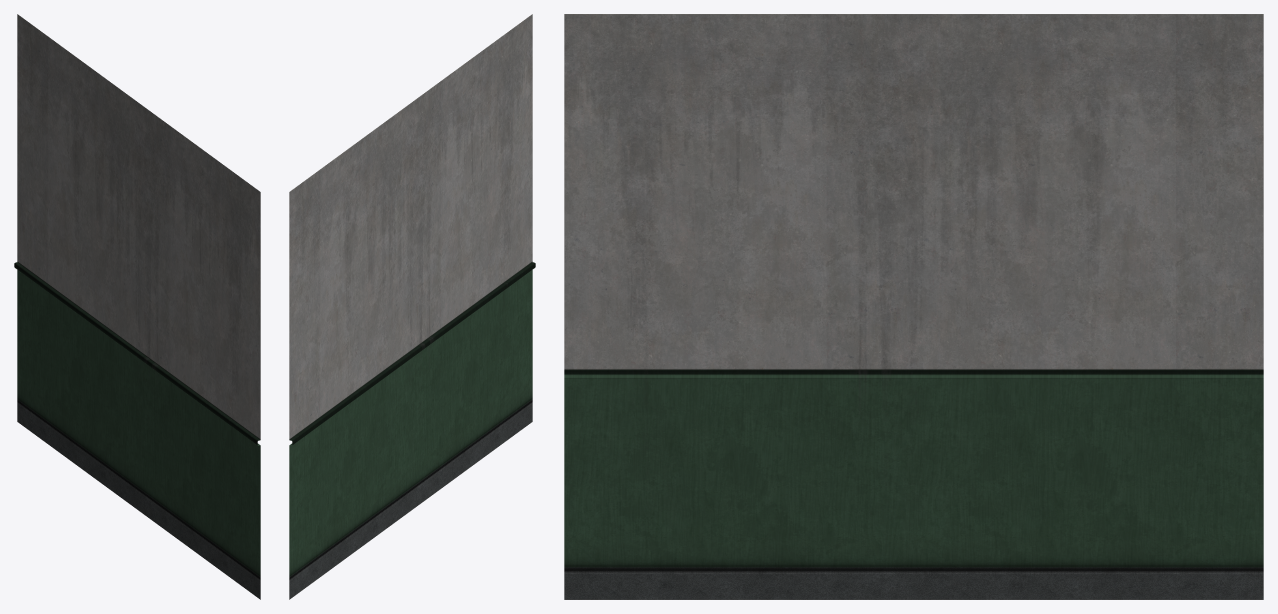
File: Psychiatric_Ward_Infirmary_Wall_4m.glb
The picture shows the model from 3 angles, left to right: view 1: azimuth 30°, elevation 25°; view 2: azimuth 150°, elevation 25°; view 3: azimuth 270°, elevation 25°; orthographic projection. The views are drawn at different scales.
Visible parts, largest first — view 1: Psychiatric_Ward_Infirmary_Wall_4m; view 2: Psychiatric_Ward_Infirmary_Wall_4m; view 3: Psychiatric_Ward_Infirmary_Wall_4m.
Part boxes in pixels (<box>): Psychiatric_Ward_Infirmary_Wall_4m: <box>14,14,260,599</box>; Psychiatric_Ward_Infirmary_Wall_4m: <box>289,14,535,599</box>; Psychiatric_Ward_Infirmary_Wall_4m: <box>564,14,1263,599</box>.
Bounding box in the file's own units: 0.03 × 3.7 × 4.
1 material, 1 textured.
